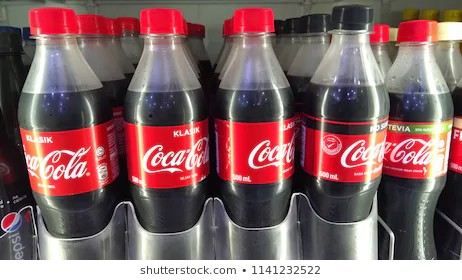coke-bottle-700ml: (17, 8, 122, 234), (123, 5, 211, 239), (211, 4, 293, 239), (388, 18, 448, 261)
coke-diet/zero-bottle-700ml: (307, 2, 390, 230)
